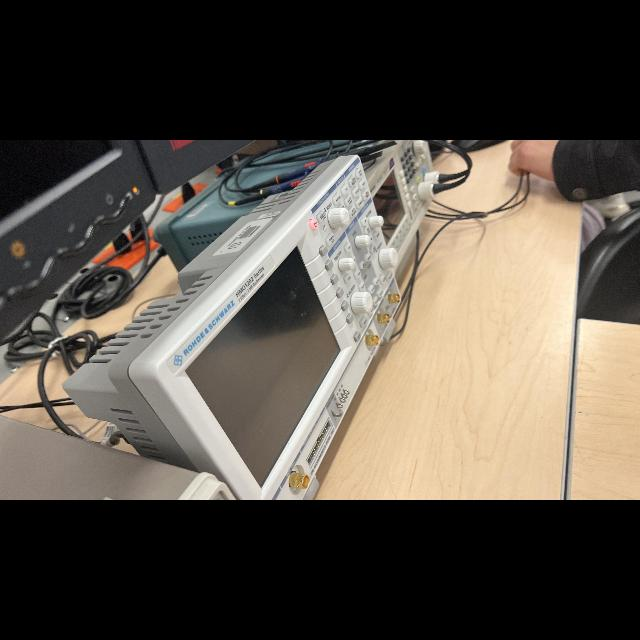Digital-Oscilloscope: (63, 155, 400, 499)
